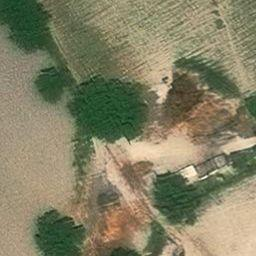manzanas: (179, 152, 231, 188)
